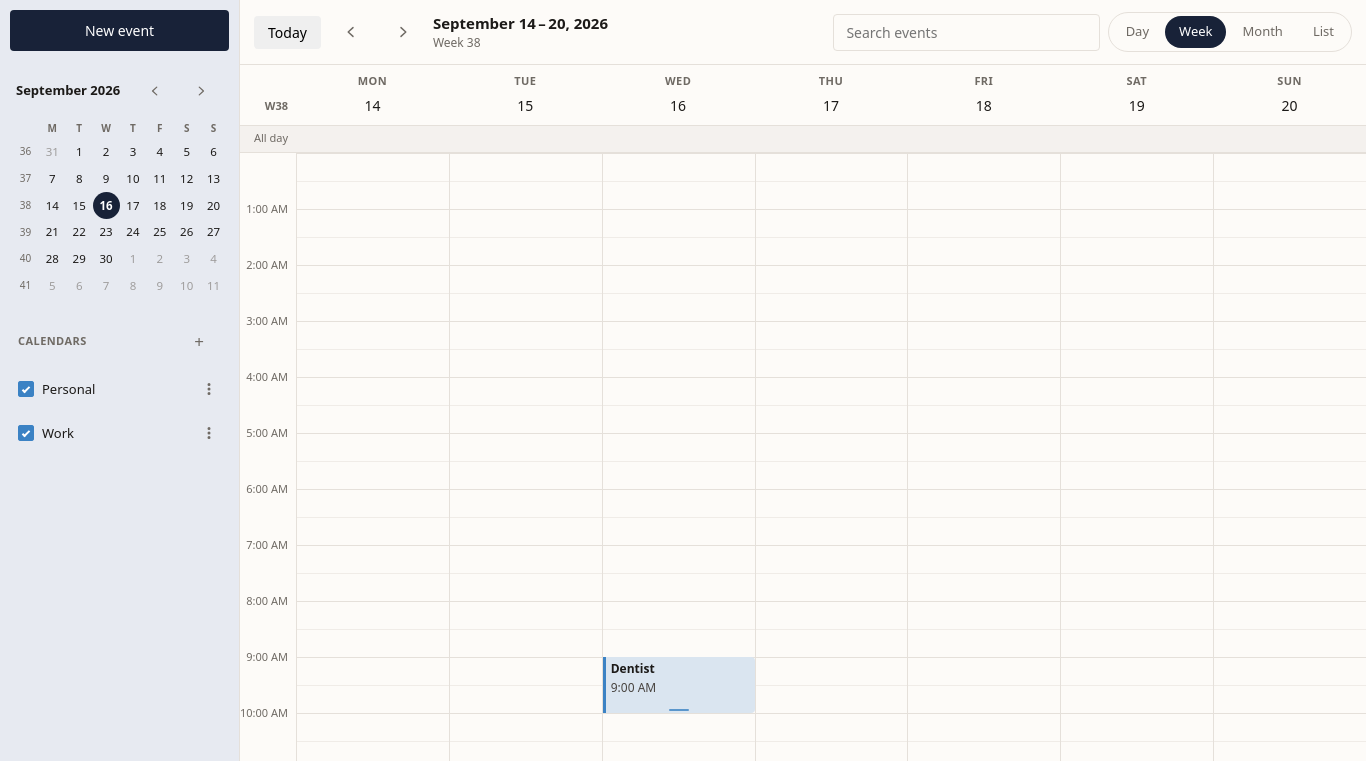
Test: CalendarLayout — the bubble › falls back to the generic label on delete when the cached rule is not exact
Click the button "Dentist 9:00 AM": (679, 684) [603,656,755,712]
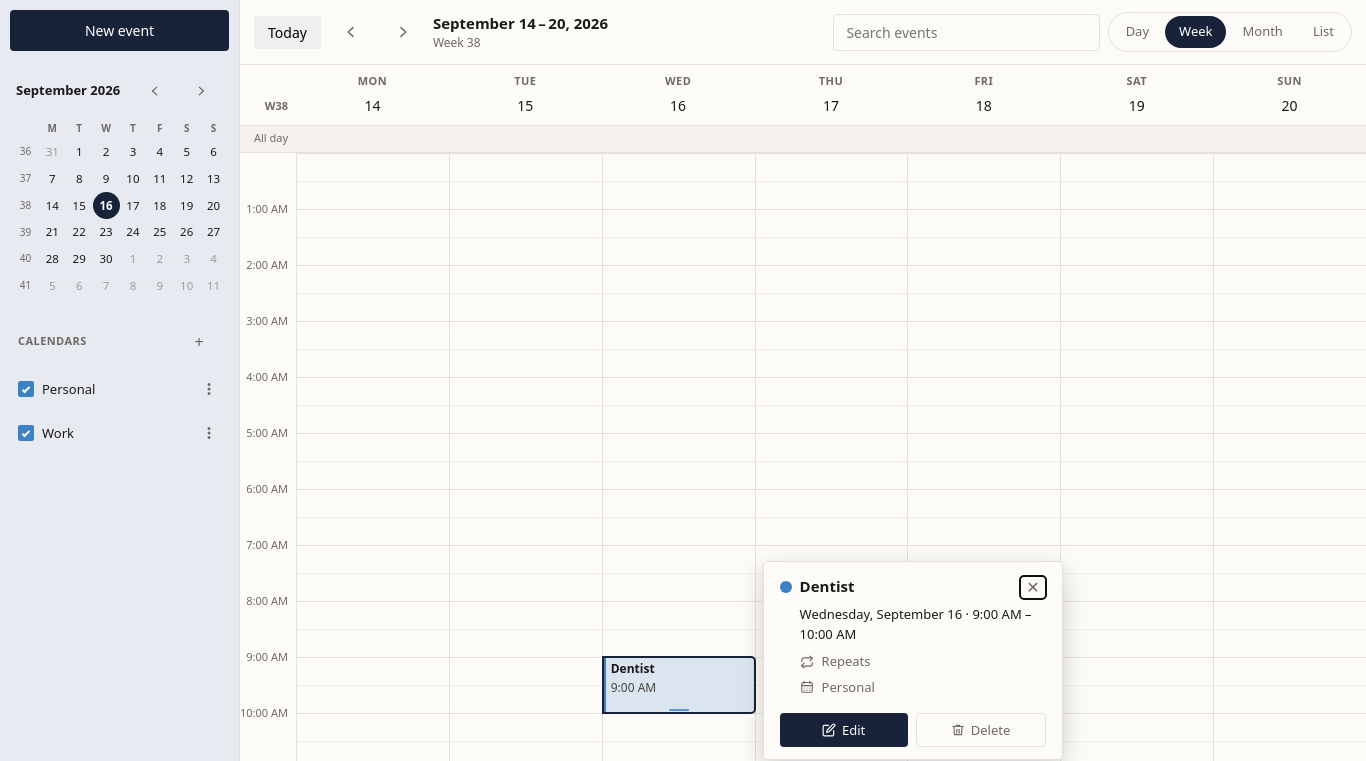
Check: the dialog "Dentist" shows "Repeats", box [822,652,871,670]
Click the button "Delete": (981, 730) [916,713,1046,747]
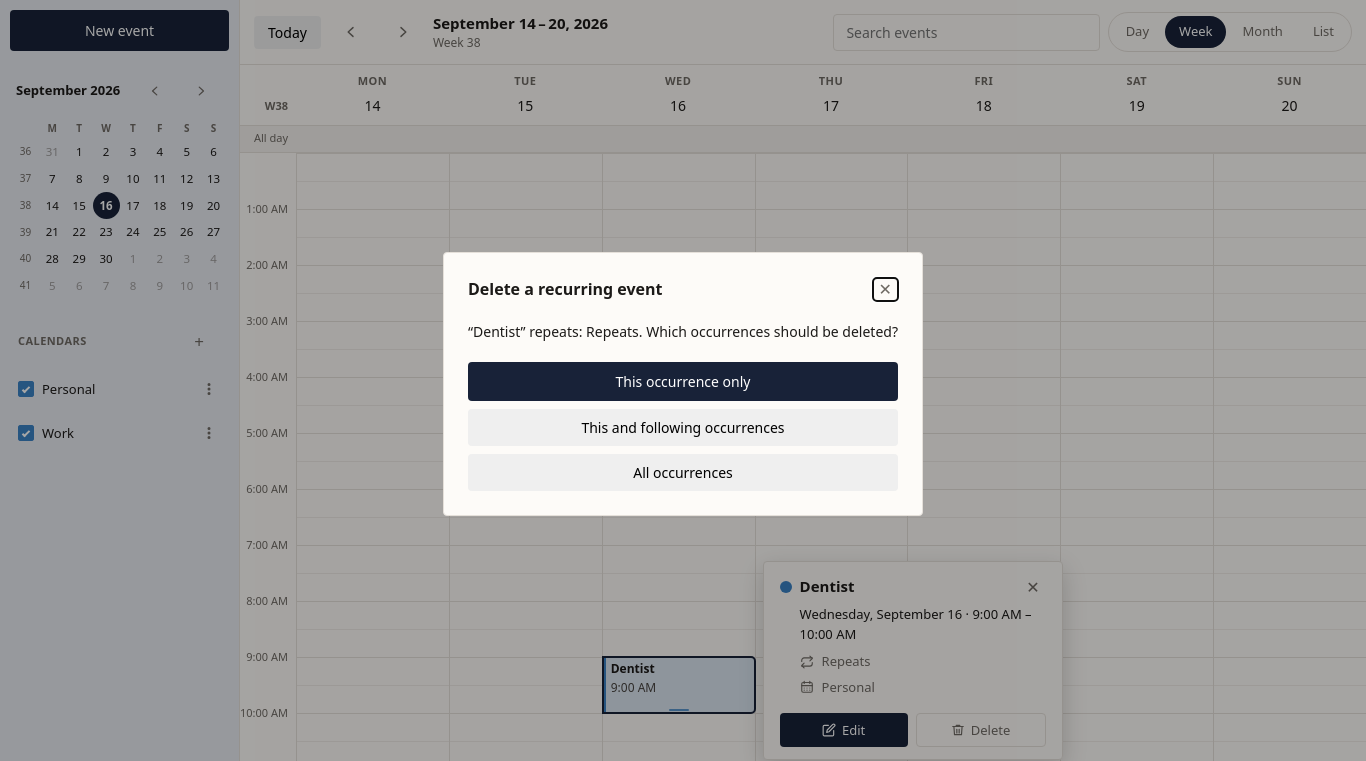
Check: the text "Delete a recurring event" is shown, box [468,277,662,301]
Check: the text "repeats" is shown, box [468,322,898,341]
